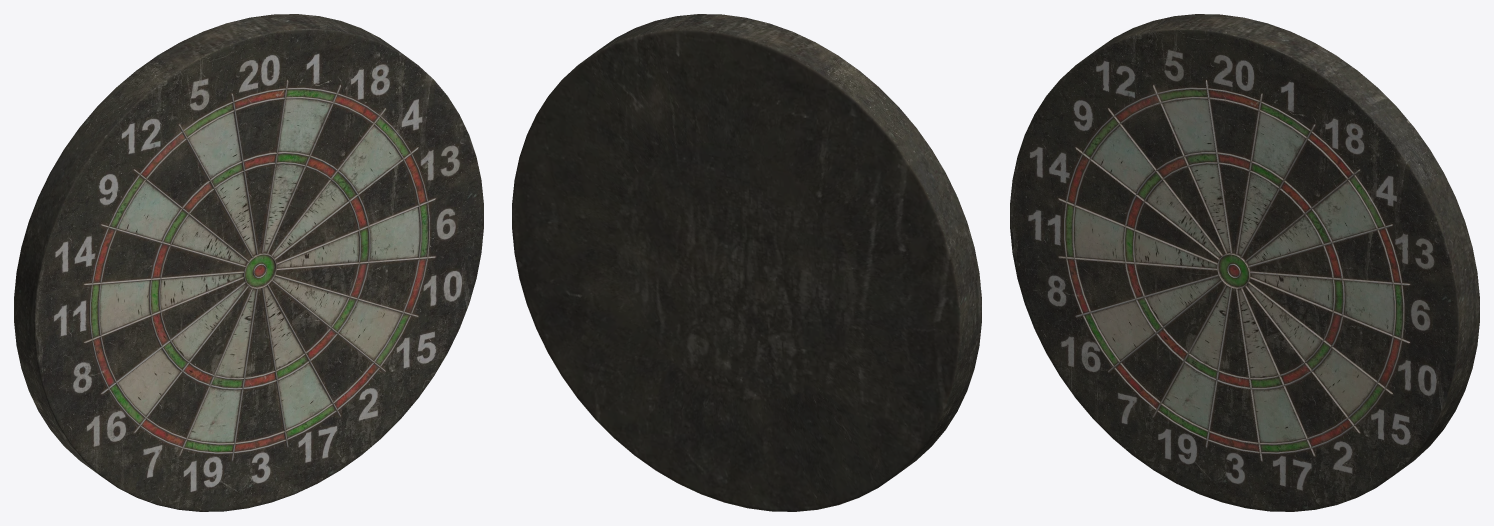
The model's file is dartboard.glb.
3 views of the same model, side by side, from view 1: azimuth 30°, elevation 25°; view 2: azimuth 150°, elevation 25°; view 3: azimuth 330°, elevation 25° (orthographic).
Visible parts, largest first — view 1: dartboard; view 2: dartboard; view 3: dartboard.
Boxes of the visible parts, x1,y1,x2,y2 form: dartboard: (14, 14, 483, 511); dartboard: (512, 14, 981, 511); dartboard: (1010, 14, 1479, 511).
Bounding box in the file's own units: 0.4507 × 0.4507 × 0.0398.
Materials: 1 (1 with a texture image).
